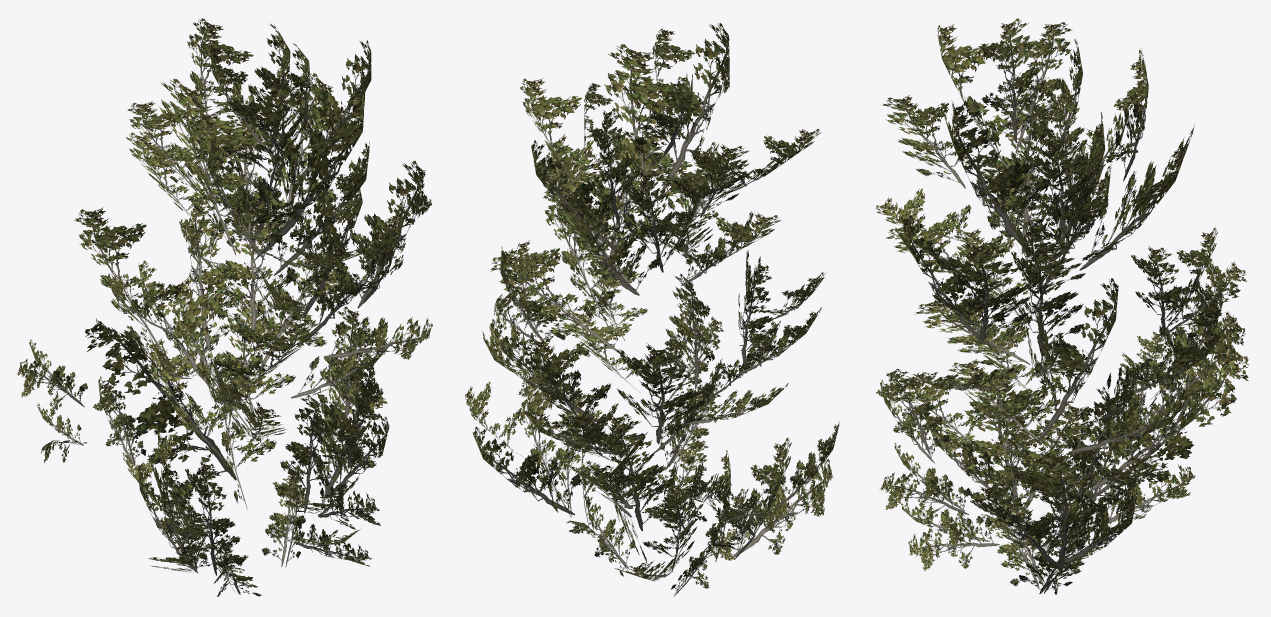
Rendered from Presid_Tree_leavesb.FBX.
3 renders of one model, left to right at view 1: azimuth 30°, elevation 25°; view 2: azimuth 150°, elevation 25°; view 3: azimuth 270°, elevation 25°, orthographic. The views are drawn at different scales.
Parts seen in each view (by area): view 1: Presid_Tree_leavesb; view 2: Presid_Tree_leavesb; view 3: Presid_Tree_leavesb.
Boxes of the visible parts, <box> form: Presid_Tree_leavesb: <box>16,18,432,596</box>; Presid_Tree_leavesb: <box>465,23,839,596</box>; Presid_Tree_leavesb: <box>875,18,1249,594</box>.
Size of the model in its own units: 4.36 by 7.3 by 4.34.
